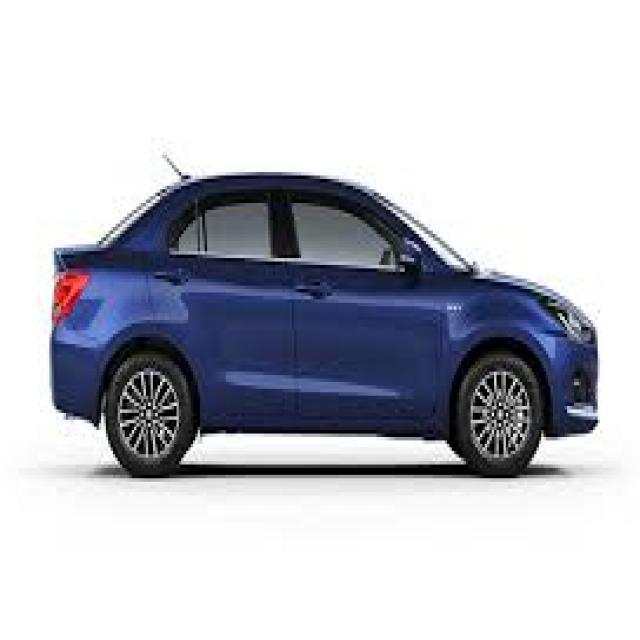Car: (46, 175, 603, 483)
